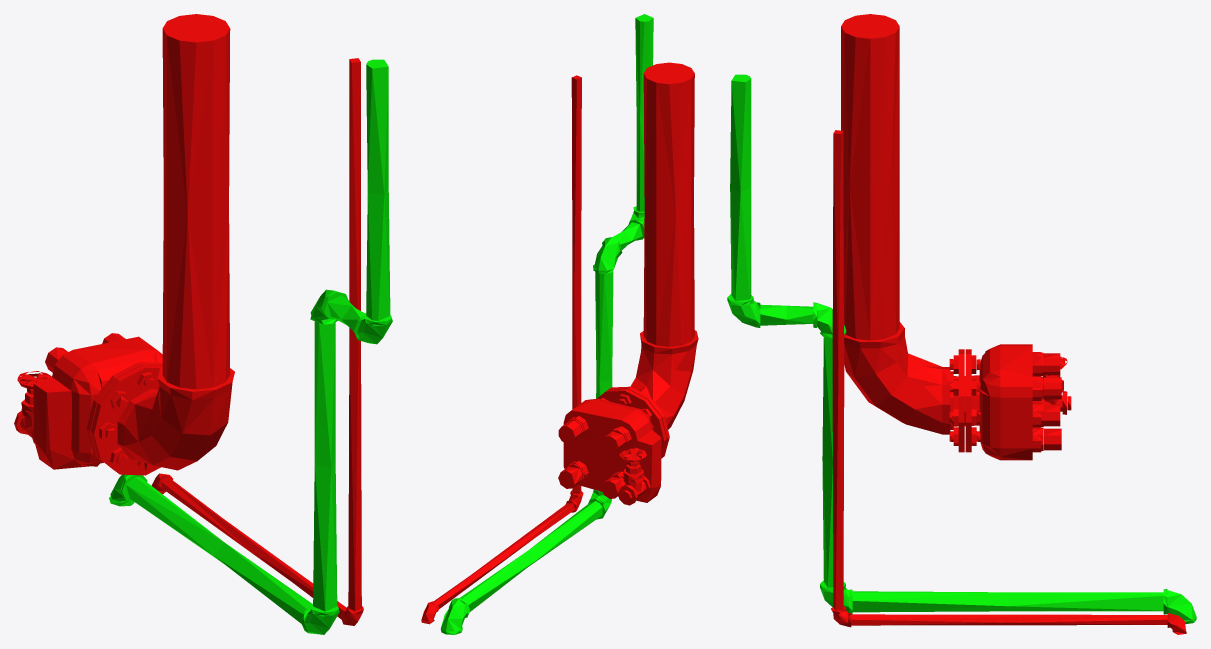
Rendered from detail-sprinklers-lite-0-apron.glb.
3 renders of one model, left to right at view 1: azimuth 30°, elevation 25°; view 2: azimuth 150°, elevation 25°; view 3: azimuth 270°, elevation 25°, orthographic. The views are drawn at different scales.
Size of the model in its own units: 0.6362 by 1.73 by 1.34.
